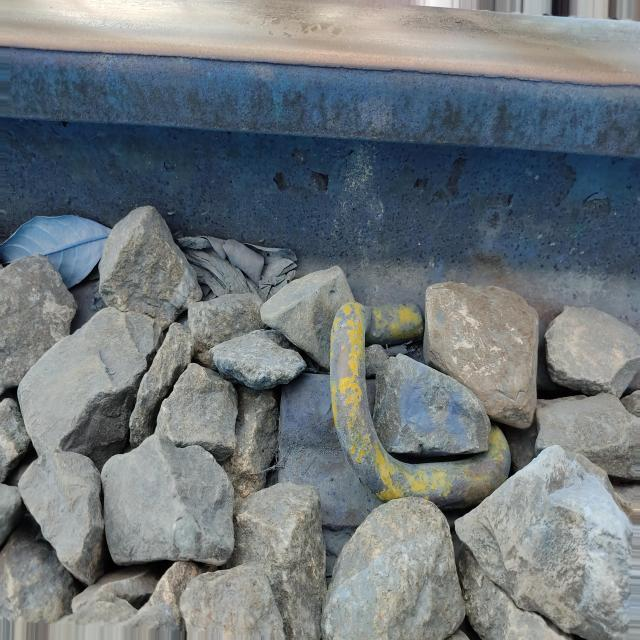Good Fasteners: (266, 320, 528, 549)
